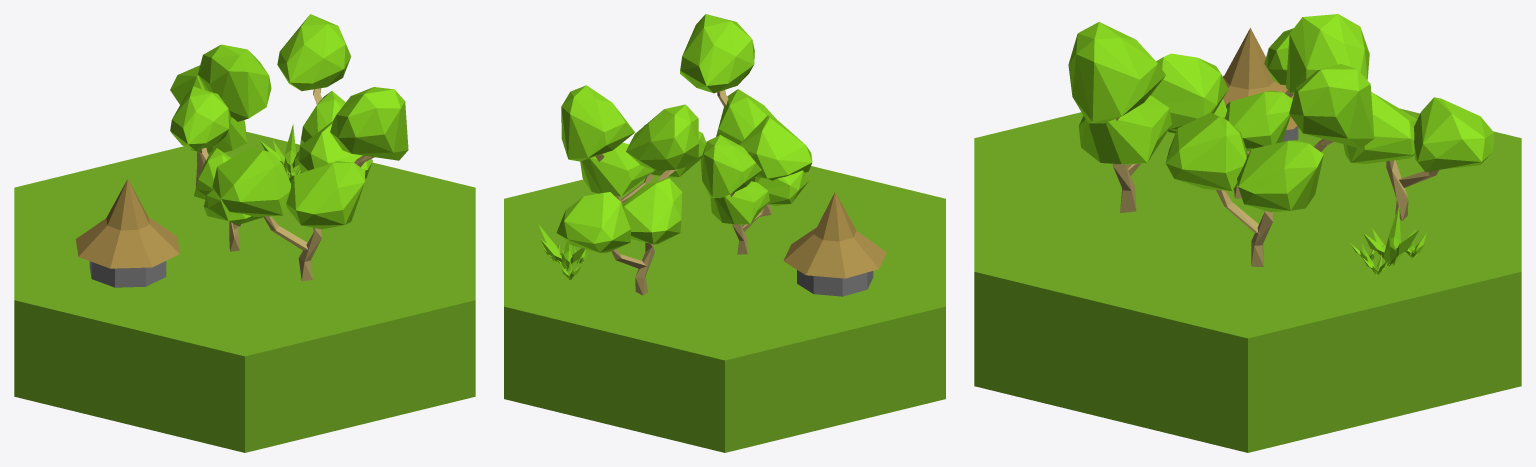
File: Casas_Selva_1.fbx
3 renders of one model, left to right at view 1: azimuth 30°, elevation 25°; view 2: azimuth 150°, elevation 25°; view 3: azimuth 270°, elevation 25°, orthographic. The views are drawn at different scales.
Visible parts, largest first — view 1: Casas_Selva_1; view 2: Casas_Selva_1; view 3: Casas_Selva_1.
Part boxes in pixels (<box>): Casas_Selva_1: <box>14,14,475,452</box>; Casas_Selva_1: <box>504,14,945,452</box>; Casas_Selva_1: <box>974,14,1521,452</box>.
Size of the model in its own units: 200 by 115 by 173.
